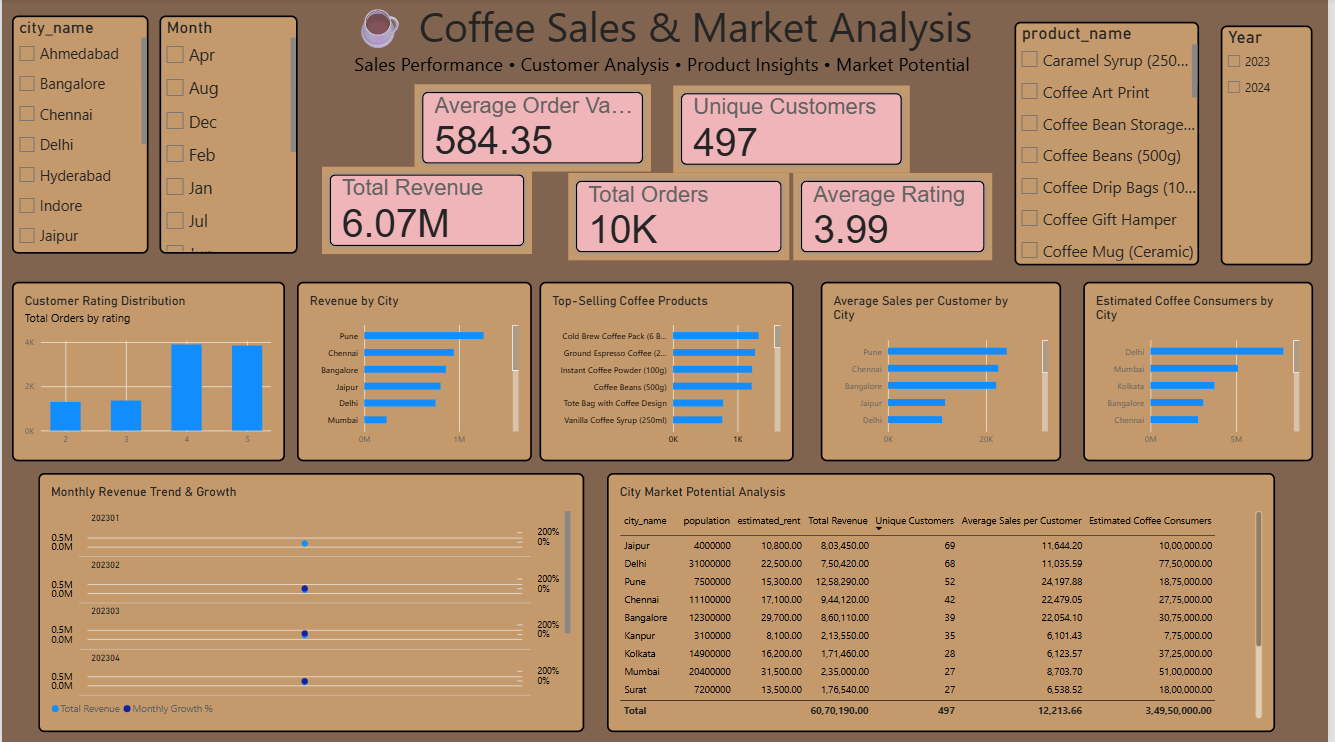

What the dashboard file says about the page in this screenshot:
{"tool":"powerbi","page":{"name":"Page 1","canvas":[1920,1080],"ordinal":0},"visuals":[{"type":"cardVisual","fields":{"Data":["public sales.Total Revenue"]},"box":[462.5,245,304,126],"z":0},{"type":"cardVisual","fields":{"Data":["public sales.Total Orders"]},"box":[820,252.5,320,126],"z":1000},{"type":"cardVisual","fields":{"Data":["public sales.Unique Customers"]},"box":[972.5,127.5,342,126],"z":2000},{"type":"cardVisual","fields":{"Data":["public sales.Average Rating"]},"box":[1145,252.5,288,126],"z":4000},{"type":"textbox","box":[347.9,0,1216.5,125.6],"z":5000},{"type":"slicer","fields":{"Values":["DateTable.Year"]},"box":[1765,40,132.5,347.5],"z":6000},{"type":"slicer","fields":{"Values":["DateTable.Month"]},"box":[227.5,25,200,345],"z":7000},{"type":"slicer","fields":{"Values":["public city.city_name"]},"box":[15,25,197.5,345],"z":8000},{"type":"slicer","fields":{"Values":["public products.product_name"]},"box":[1465,35,267.5,352.5],"z":9000},{"type":"lineChart","title":"Monthly Revenue Trend & Growth","fields":{"Rows":["DateTable.Year Month Number"],"Y":["public sales.Total Revenue"],"Y2":["public sales.Monthly Growth %"]},"box":[52.5,687.5,790,375],"z":10000},{"type":"clusteredBarChart","title":"Revenue by City","fields":{"Category":["public city.city_name"],"Y":["public sales.Total Revenue"]},"box":[427.5,410,340,260],"z":11000},{"type":"clusteredBarChart","title":"Top-Selling Coffee Products","fields":{"Category":["public products.product_name"],"Y":["public sales.Total Orders"]},"box":[777.5,410,368,260],"z":12000},{"type":"clusteredBarChart","title":"Average Sales per Customer by City","fields":{"Category":["public city.city_name"],"Y":["public sales.Average Sales per Customer"]},"box":[1185,410,348,260],"z":15000},{"type":"clusteredColumnChart","title":"Customer Rating Distribution","fields":{"Category":["public sales.rating"],"Y":["public sales.Total Orders"]},"box":[15,410,395,260],"z":16000},{"type":"clusteredBarChart","title":"Estimated Coffee Consumers by City","fields":{"Category":["public city.city_name"],"Y":["public sales.Estimated Coffee Consumers"]},"box":[1565,410,332.5,260],"z":17000},{"type":"tableEx","title":"City Market Potential Analysis","fields":{"Values":["public city.city_name","public city.population","public city.estimated_rent","public sales.Total Revenue","public sales.Unique Customers","public sales.Average Sales per Customer","public sales.Estimated Coffee Consumers"]},"box":[875,687.5,967.5,375],"z":18000},{"type":"cardVisual","fields":{"Data":["public sales.Average Order Value"]},"box":[597.2,124.9,342,126],"z":18001}]}

Visuals, with their boxes in screenshot pixels (x1, y1, x2, y2), scaled from the page's 1920x1080 canvas onto the 1335x742 screenshot:
cardVisual - public sales.Total Revenue: locate(322, 168, 533, 255)
cardVisual - public sales.Total Orders: locate(570, 173, 793, 260)
cardVisual - public sales.Unique Customers: locate(676, 88, 914, 174)
cardVisual - public sales.Average Rating: locate(796, 173, 996, 260)
textbox: locate(242, 0, 1088, 86)
slicer - DateTable.Year: locate(1227, 27, 1319, 266)
slicer - DateTable.Month: locate(158, 17, 297, 254)
slicer - public city.city_name: locate(10, 17, 148, 254)
slicer - public products.product_name: locate(1019, 24, 1205, 266)
"Monthly Revenue Trend & Growth" lineChart: locate(37, 472, 586, 730)
"Revenue by City" clusteredBarChart: locate(297, 282, 534, 460)
"Top-Selling Coffee Products" clusteredBarChart: locate(541, 282, 796, 460)
"Average Sales per Customer by City" clusteredBarChart: locate(824, 282, 1066, 460)
"Customer Rating Distribution" clusteredColumnChart: locate(10, 282, 285, 460)
"Estimated Coffee Consumers by City" clusteredBarChart: locate(1088, 282, 1319, 460)
"City Market Potential Analysis" tableEx: locate(608, 472, 1281, 730)
cardVisual - public sales.Average Order Value: locate(415, 86, 653, 172)
